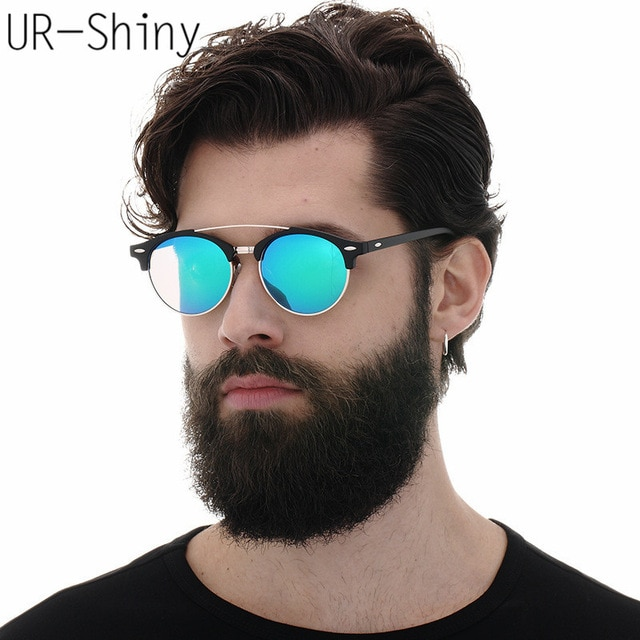sunglasses: (111, 224, 462, 322)
